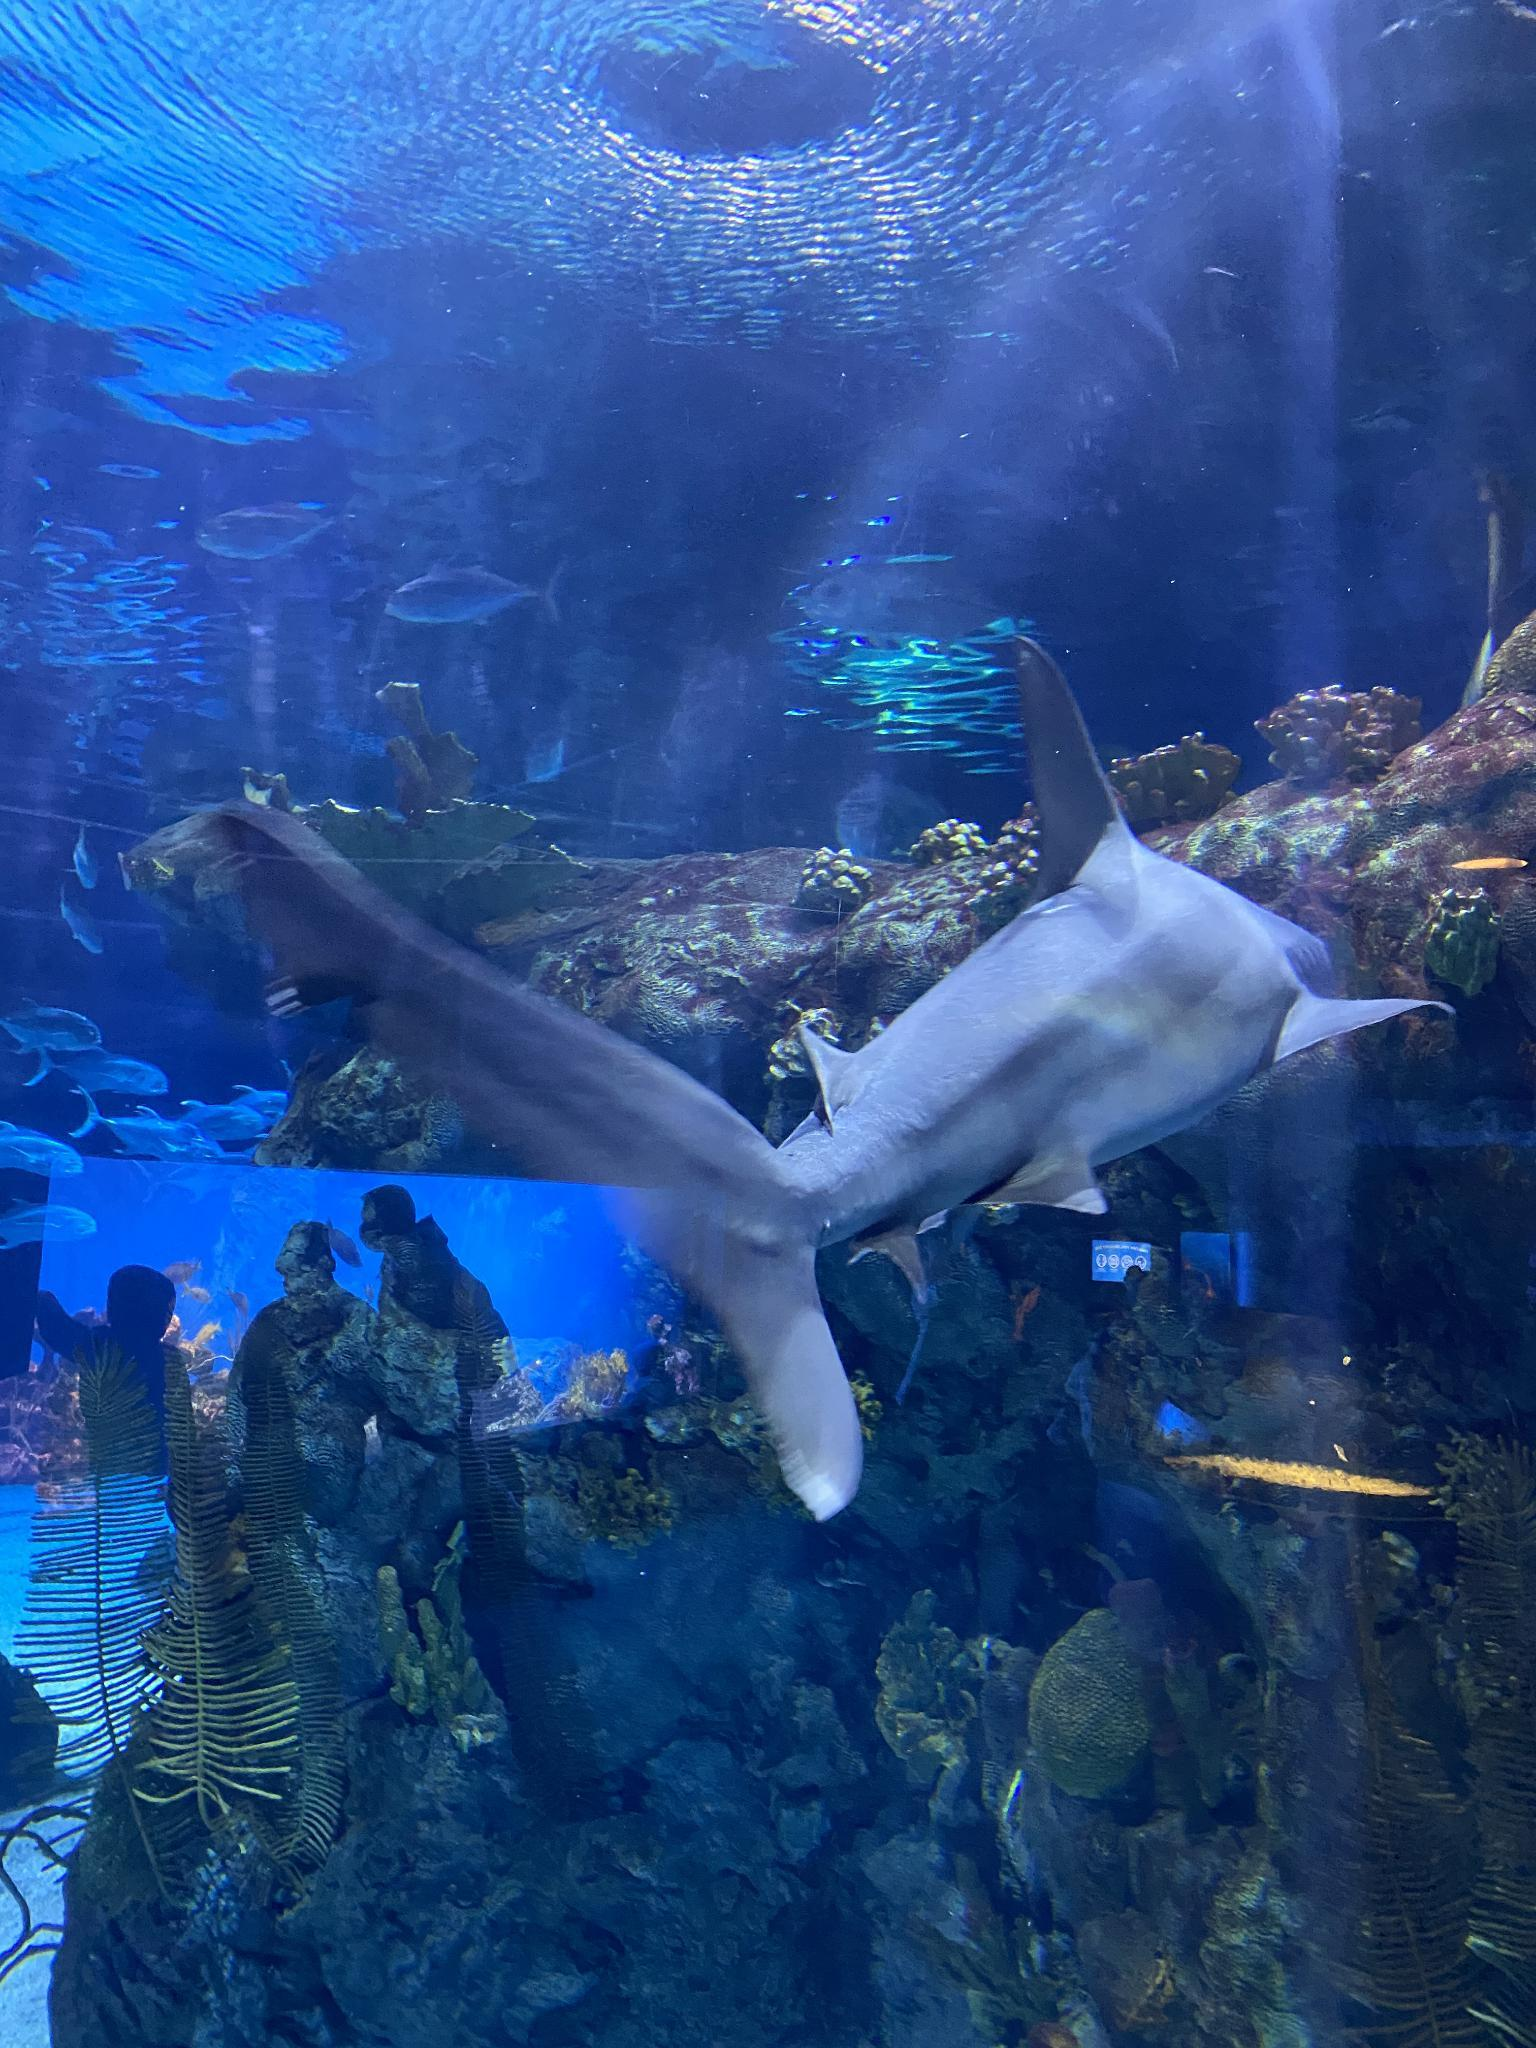fish: (382, 563, 566, 627), (73, 1087, 190, 1163), (195, 503, 353, 558), (24, 1045, 166, 1100), (0, 997, 102, 1064), (0, 1195, 98, 1255), (202, 1080, 305, 1126), (173, 1100, 266, 1145), (0, 1126, 84, 1176), (60, 884, 103, 951), (68, 826, 97, 887)
shark: (213, 631, 1454, 1516)
